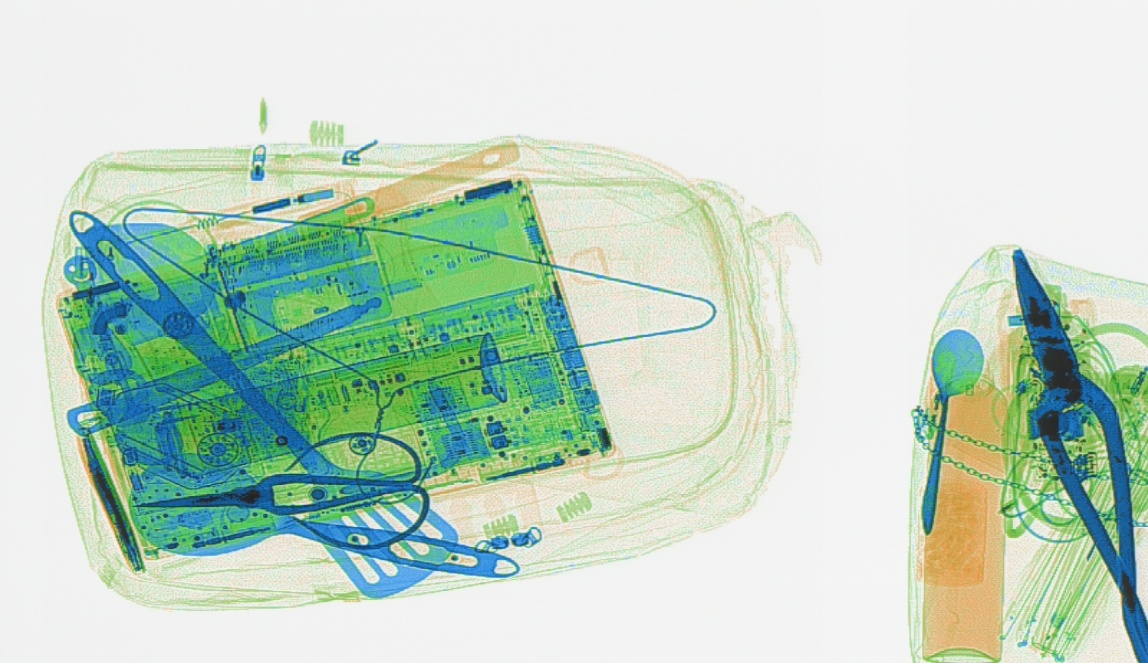knife: (69, 421, 148, 577)
pressure: (149, 329, 511, 477), (914, 343, 1010, 661)
scissors: (1005, 245, 1146, 659), (129, 427, 430, 551)
